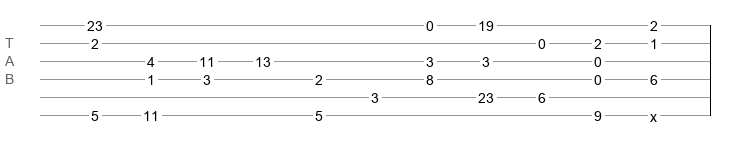0: (426, 18, 434, 28), (538, 36, 546, 46), (594, 54, 602, 64), (594, 72, 602, 82)
1: (147, 72, 155, 82), (650, 36, 658, 46)
11: (143, 108, 159, 118), (199, 54, 215, 64)
13: (255, 54, 271, 64)
19: (478, 18, 494, 28)
2: (91, 36, 99, 46), (315, 72, 323, 82), (594, 36, 602, 46), (650, 18, 658, 28)
23: (87, 18, 103, 28), (478, 90, 494, 100)
3: (203, 72, 211, 82), (371, 90, 379, 100), (426, 54, 434, 64), (482, 54, 490, 64)
4: (147, 54, 155, 64)
5: (91, 108, 99, 118), (315, 108, 323, 118)
6: (538, 90, 546, 100), (650, 72, 658, 82)
8: (426, 72, 434, 82)
9: (594, 108, 602, 118)
x: (650, 109, 657, 117)
